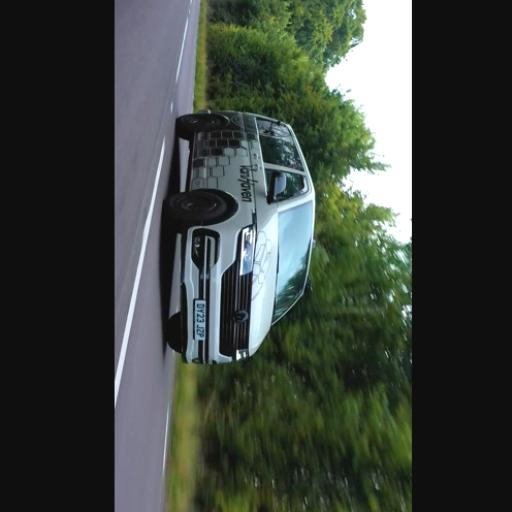van: (163, 110, 315, 362)
